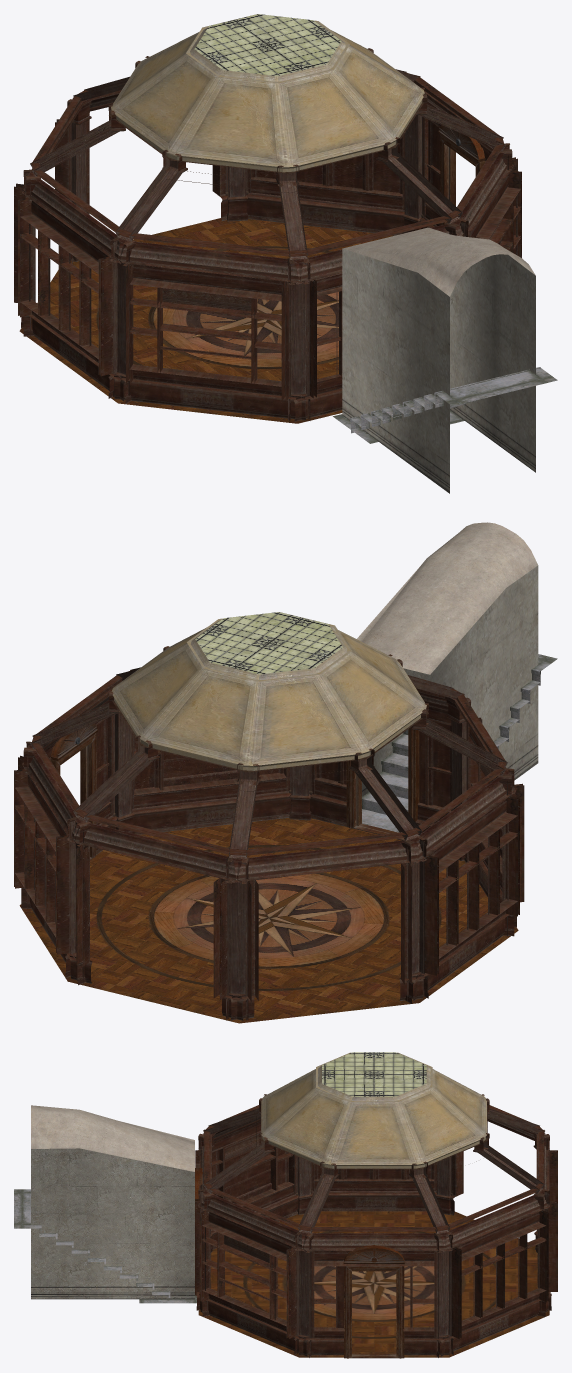
3 views of the same model, one above another, from view 1: azimuth 30°, elevation 25°; view 2: azimuth 150°, elevation 25°; view 3: azimuth 270°, elevation 25° (orthographic). The views are drawn at different scales.
Parts seen in each view (by area): view 1: LOD_1_Group_0_Sub_1__st2_police2fLeftPillar02, LOD_1_Group_0_Sub_7__st4_policeHallWall04, LOD_1_Group_0_Sub_3__st4_policeHallCeiling01_MAT1, LOD_1_Group_0_Sub_6__st2_ArchitectRoomFloor01_Mat1, LOD_1_Group_0_Sub_2__st2_police2fLeftCeiling08, LOD_1_Group_0_Sub_8__st4_policeHallWall05, LOD_1_Group_0_Sub_9__st2_police1fLeftFloor05, LOD_1_Group_0_Sub_5__st2_police2fLeftDoor02, LOD_1_Group_0_Sub_4__st4_policeHallPillar01_MAT1; view 2: LOD_1_Group_0_Sub_1__st2_police2fLeftPillar02, LOD_1_Group_0_Sub_6__st2_ArchitectRoomFloor01_Mat1, LOD_1_Group_0_Sub_3__st4_policeHallCeiling01_MAT1, LOD_1_Group_0_Sub_8__st4_policeHallWall05, LOD_1_Group_0_Sub_7__st4_policeHallWall04, LOD_1_Group_0_Sub_2__st2_police2fLeftCeiling08, LOD_1_Group_0_Sub_5__st2_police2fLeftDoor02, LOD_1_Group_0_Sub_9__st2_police1fLeftFloor05, LOD_1_Group_0_Sub_4__st4_policeHallPillar01_MAT1; view 3: LOD_1_Group_0_Sub_1__st2_police2fLeftPillar02, LOD_1_Group_0_Sub_7__st4_policeHallWall04, LOD_1_Group_0_Sub_3__st4_policeHallCeiling01_MAT1, LOD_1_Group_0_Sub_6__st2_ArchitectRoomFloor01_Mat1, LOD_1_Group_0_Sub_8__st4_policeHallWall05, LOD_1_Group_0_Sub_2__st2_police2fLeftCeiling08, LOD_1_Group_0_Sub_5__st2_police2fLeftDoor02, LOD_1_Group_0_Sub_9__st2_police1fLeftFloor05, LOD_1_Group_0_Sub_4__st4_policeHallPillar01_MAT1.
Part boxes in pixels (x1,y1,x2,y2): LOD_1_Group_0_Sub_1__st2_police2fLeftPillar02: (14,48,521,421); LOD_1_Group_0_Sub_7__st4_policeHallWall04: (342,248,535,493); LOD_1_Group_0_Sub_3__st4_policeHallCeiling01_MAT1: (111,14,424,172); LOD_1_Group_0_Sub_6__st2_ArchitectRoomFloor01_Mat1: (19,218,393,423); LOD_1_Group_0_Sub_2__st2_police2fLeftCeiling08: (194,14,341,76); LOD_1_Group_0_Sub_8__st4_policeHallWall05: (342,227,535,296); LOD_1_Group_0_Sub_9__st2_police1fLeftFloor05: (333,367,557,443); LOD_1_Group_0_Sub_5__st2_police2fLeftDoor02: (438,125,485,225); LOD_1_Group_0_Sub_4__st4_policeHallPillar01_MAT1: (103,102,433,193); LOD_1_Group_0_Sub_1__st2_police2fLeftPillar02: (14,646,524,1021); LOD_1_Group_0_Sub_6__st2_ArchitectRoomFloor01_Mat1: (19,817,518,1023); LOD_1_Group_0_Sub_3__st4_policeHallCeiling01_MAT1: (111,612,426,770); LOD_1_Group_0_Sub_8__st4_policeHallWall05: (357,522,537,674); LOD_1_Group_0_Sub_7__st4_policeHallWall04: (362,565,538,796); LOD_1_Group_0_Sub_2__st2_police2fLeftCeiling08: (195,612,342,674); LOD_1_Group_0_Sub_5__st2_police2fLeftDoor02: (50,723,419,859); LOD_1_Group_0_Sub_9__st2_police1fLeftFloor05: (362,654,557,832); LOD_1_Group_0_Sub_4__st4_policeHallPillar01_MAT1: (103,700,434,791); LOD_1_Group_0_Sub_1__st2_police2fLeftPillar02: (195,1094,557,1357); LOD_1_Group_0_Sub_7__st4_policeHallWall04: (31,1148,194,1299); LOD_1_Group_0_Sub_3__st4_policeHallCeiling01_MAT1: (261,1052,486,1168); LOD_1_Group_0_Sub_6__st2_ArchitectRoomFloor01_Mat1: (198,1211,549,1357); LOD_1_Group_0_Sub_8__st4_policeHallWall05: (31,1105,194,1171); LOD_1_Group_0_Sub_2__st2_police2fLeftCeiling08: (322,1052,426,1096); LOD_1_Group_0_Sub_5__st2_police2fLeftDoor02: (195,1168,404,1358); LOD_1_Group_0_Sub_9__st2_police1fLeftFloor05: (14,1189,196,1303); LOD_1_Group_0_Sub_4__st4_policeHallPillar01_MAT1: (256,1105,491,1183).
Size of the model in its own units: 7.99 by 5.07 by 11.82.
